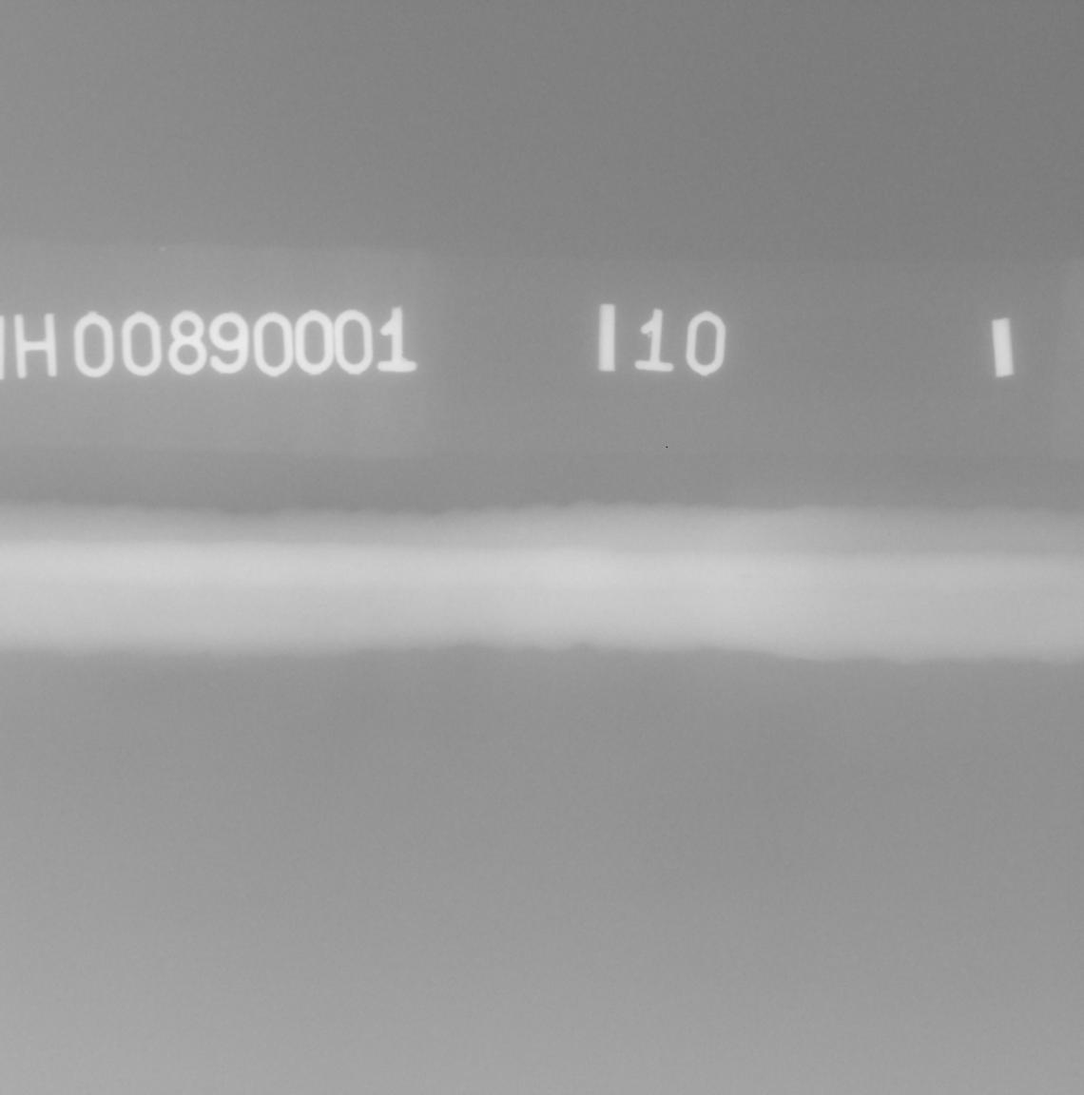Inclusion: (739, 571, 758, 580)
